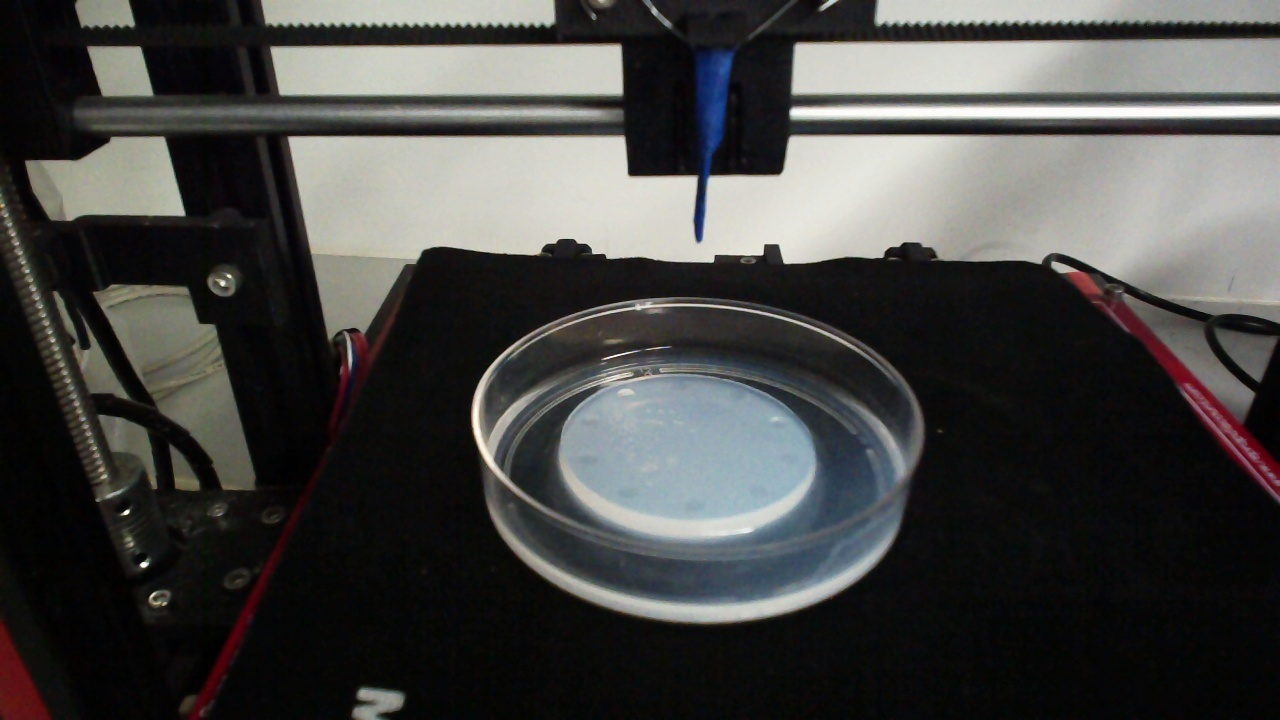groove: (683, 498, 706, 514), (768, 415, 791, 431), (747, 482, 768, 499), (616, 484, 638, 499), (777, 452, 798, 467), (577, 452, 597, 466), (728, 388, 747, 402), (579, 414, 599, 427), (669, 379, 688, 392), (616, 388, 634, 399)
needle: (694, 51, 731, 244)
